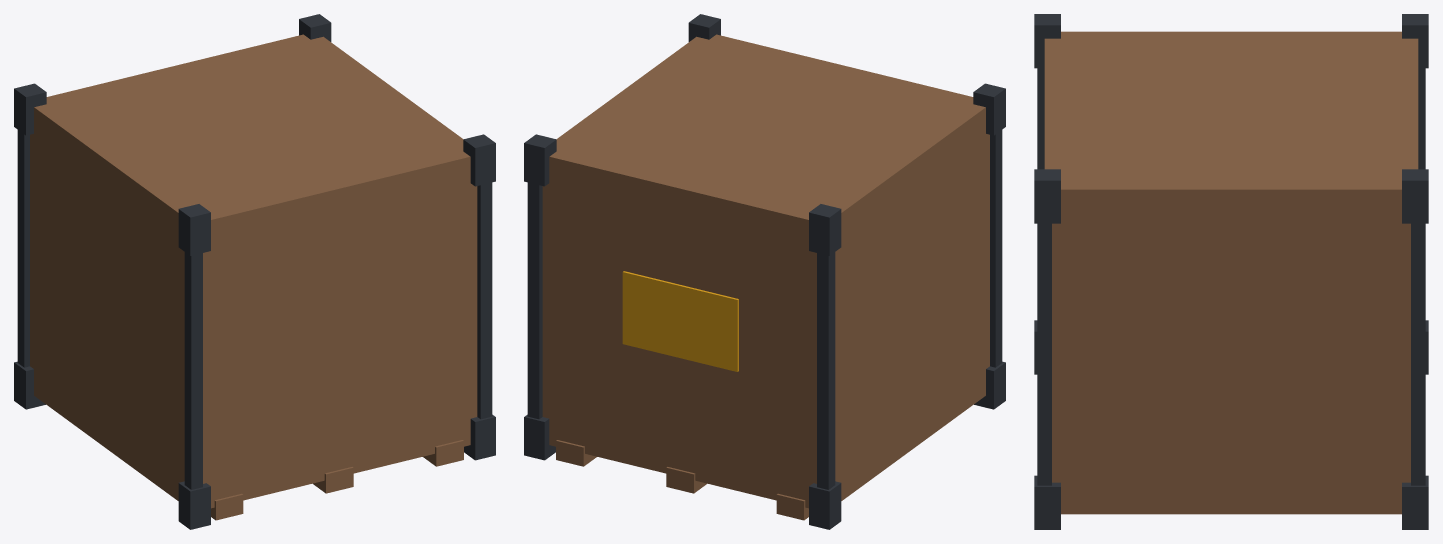
Rendered from Warehouse_Cargo_Crate.obj.
The picture shows the model from 3 angles, left to right: view 1: azimuth 30°, elevation 25°; view 2: azimuth 150°, elevation 25°; view 3: azimuth 270°, elevation 25°; orthographic projection. The views are drawn at different scales.
Visible parts, largest first — view 1: Crate_Body, Edge_Post_-0.63_-0.63, Edge_Post_0.63_-0.63, Edge_Post_-0.63_0.63, Corner_Bracket_-0.62_-0.62_1.22, Corner_Bracket_-0.62_-0.62_0.08, Corner_Bracket_0.62_-0.62_1.22, Corner_Bracket_-0.62_0.62_1.22, Corner_Bracket_0.62_-0.62_0.08, Corner_Bracket_-0.62_0.62_0.08, Skid_Rail_0.0, Corner_Bracket_0.62_0.62_1.22 (+2 smaller); view 2: Crate_Body, Hazard_Stencil_Plate, Edge_Post_-0.63_0.63, Edge_Post_0.63_0.63, Edge_Post_-0.63_-0.63, Corner_Bracket_-0.62_0.62_1.22, Corner_Bracket_-0.62_0.62_0.08, Corner_Bracket_0.62_0.62_1.22, Corner_Bracket_-0.62_-0.62_1.22, Corner_Bracket_0.62_0.62_0.08, Corner_Bracket_-0.62_-0.62_0.08, Skid_Rail_0.0 (+3 smaller); view 3: Crate_Body, Edge_Post_0.63_-0.63, Edge_Post_0.63_0.63, Corner_Bracket_0.62_-0.62_1.22, Corner_Bracket_0.62_0.62_1.22, Corner_Bracket_0.62_-0.62_0.08, Corner_Bracket_0.62_0.62_0.08, Skid_Rail_0.48, Corner_Bracket_-0.62_-0.62_1.22, Corner_Bracket_-0.62_0.62_1.22, Edge_Post_-0.63_-0.63, Edge_Post_-0.63_0.63.
Part boxes in pixels (bbox=[...]): Crate_Body: bbox=[30, 34, 477, 508]; Edge_Post_-0.63_-0.63: bbox=[184, 252, 202, 489]; Edge_Post_0.63_-0.63: bbox=[477, 182, 492, 419]; Edge_Post_-0.63_0.63: bbox=[17, 130, 29, 367]; Corner_Bracket_-0.62_-0.62_1.22: bbox=[178, 204, 210, 255]; Corner_Bracket_-0.62_-0.62_0.08: bbox=[178, 481, 210, 529]; Corner_Bracket_0.62_-0.62_1.22: bbox=[463, 134, 495, 186]; Corner_Bracket_-0.62_0.62_1.22: bbox=[14, 83, 46, 135]; Corner_Bracket_0.62_-0.62_0.08: bbox=[464, 414, 495, 460]; Corner_Bracket_-0.62_0.62_0.08: bbox=[14, 361, 45, 409]; Skid_Rail_0.0: bbox=[313, 467, 353, 493]; Corner_Bracket_0.62_0.62_1.22: bbox=[299, 14, 331, 41]; Crate_Body: bbox=[542, 34, 989, 508]; Hazard_Stencil_Plate: bbox=[622, 271, 738, 371]; Edge_Post_-0.63_0.63: bbox=[817, 252, 835, 489]; Edge_Post_0.63_0.63: bbox=[527, 182, 542, 419]; Edge_Post_-0.63_-0.63: bbox=[990, 130, 1002, 367]; Corner_Bracket_-0.62_0.62_1.22: bbox=[809, 204, 841, 255]; Corner_Bracket_-0.62_0.62_0.08: bbox=[809, 481, 841, 529]; Corner_Bracket_0.62_0.62_1.22: bbox=[524, 134, 556, 186]; Corner_Bracket_-0.62_-0.62_1.22: bbox=[973, 83, 1005, 135]; Corner_Bracket_0.62_0.62_0.08: bbox=[524, 414, 555, 460]; Corner_Bracket_-0.62_-0.62_0.08: bbox=[974, 361, 1005, 409]; Skid_Rail_0.0: bbox=[666, 467, 706, 493]; Crate_Body: bbox=[1044, 31, 1418, 512]; Edge_Post_0.63_-0.63: bbox=[1037, 223, 1051, 485]; Edge_Post_0.63_0.63: bbox=[1411, 223, 1425, 485]; Corner_Bracket_0.62_-0.62_1.22: bbox=[1034, 169, 1060, 223]; Corner_Bracket_0.62_0.62_1.22: bbox=[1402, 169, 1428, 223]; Corner_Bracket_0.62_-0.62_0.08: bbox=[1034, 475, 1060, 529]; Corner_Bracket_0.62_0.62_0.08: bbox=[1402, 475, 1428, 529]; Skid_Rail_0.48: bbox=[1061, 512, 1401, 514]; Corner_Bracket_-0.62_-0.62_1.22: bbox=[1034, 14, 1060, 68]; Corner_Bracket_-0.62_0.62_1.22: bbox=[1402, 14, 1428, 68]; Edge_Post_-0.63_-0.63: bbox=[1037, 68, 1044, 169]; Edge_Post_-0.63_0.63: bbox=[1418, 68, 1425, 169].
Bounding box in the file's own units: 1.33 × 1.3 × 1.33.
